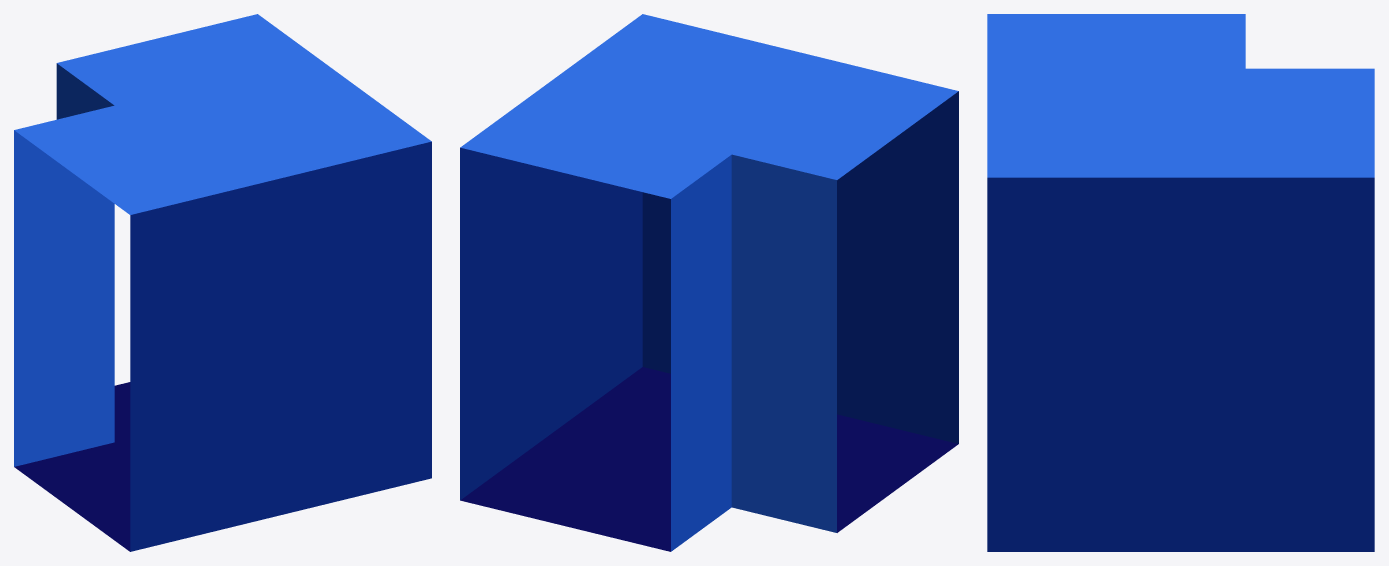
Rendered from wall_corner_left_up.glb.
3 renders of one model, left to right at view 1: azimuth 30°, elevation 25°; view 2: azimuth 150°, elevation 25°; view 3: azimuth 270°, elevation 25°, orthographic. The views are drawn at different scales.
Visible parts, largest first — view 1: wall_corner_left_up; view 2: wall_corner_left_up; view 3: wall_corner_left_up.
Part boxes in pixels (left/top/right/bottom): wall_corner_left_up: left=14, top=14, right=431, bottom=551; wall_corner_left_up: left=460, top=14, right=958, bottom=551; wall_corner_left_up: left=987, top=14, right=1374, bottom=551.
Bounding box in the file's own units: 0.75 × 0.8 × 0.75.
